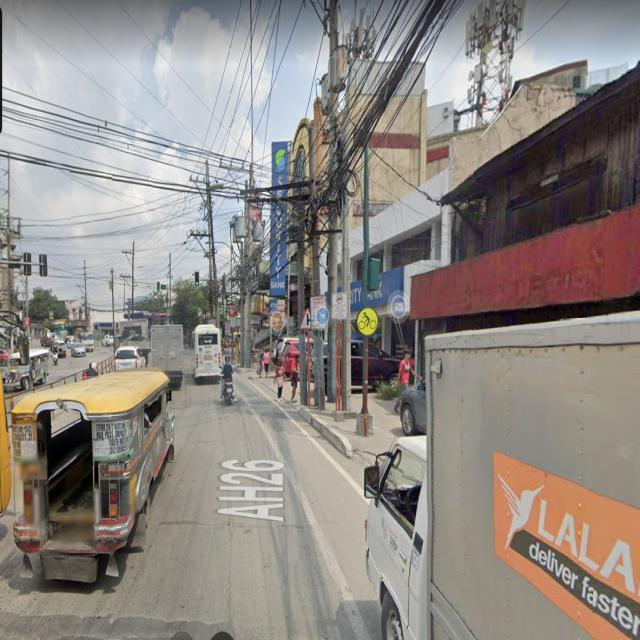bike lane: (355, 304, 382, 340)
